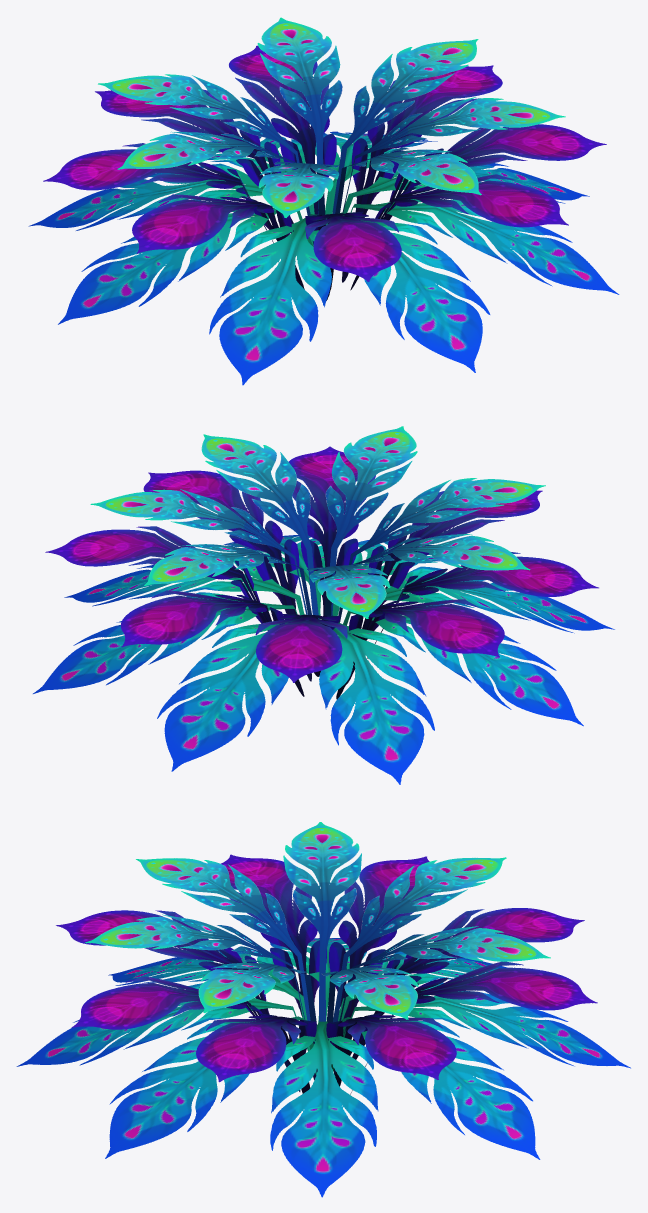
File: Bush_04.FBX
The picture shows the model from 3 angles, top to bottom: view 1: azimuth 30°, elevation 25°; view 2: azimuth 150°, elevation 25°; view 3: azimuth 270°, elevation 25°; orthographic projection. The views are drawn at different scales.
Parts seen in each view (by area): view 1: Bush_04; view 2: Bush_04; view 3: Bush_04.
Part boxes in pixels (x1,y1,x2,y2): Bush_04: (28, 17, 619, 385); Bush_04: (33, 426, 614, 784); Bush_04: (16, 822, 630, 1197).
Bounding box in the file's own units: 165 × 58.86 × 165.
